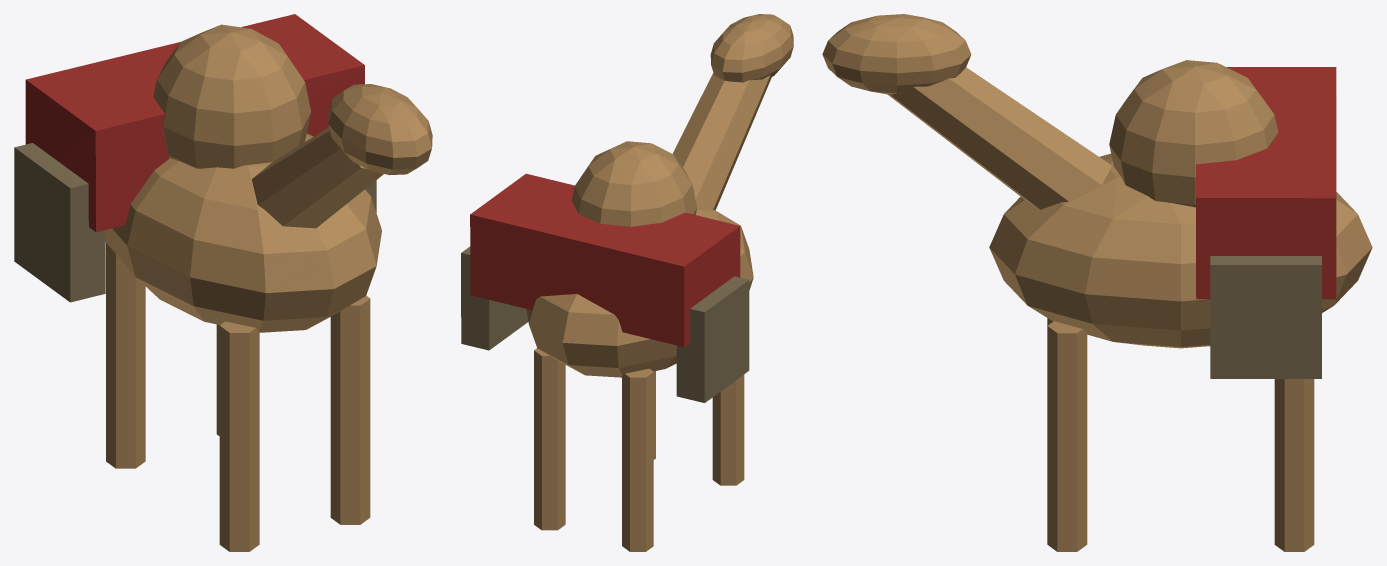
File: deve.glb
3 renders of one model, left to right at view 1: azimuth 30°, elevation 25°; view 2: azimuth 150°, elevation 25°; view 3: azimuth 270°, elevation 25°, orthographic. The views are drawn at different scales.
Visible parts, largest first — view 1: Cone; view 2: Cone; view 3: Cone.
Part boxes in pixels (x1,y1,x2,y2): Cone: (14, 14, 432, 551); Cone: (461, 14, 793, 551); Cone: (822, 14, 1372, 551).
Size of the model in its own units: 0.2487 by 0.388 by 0.3875.
